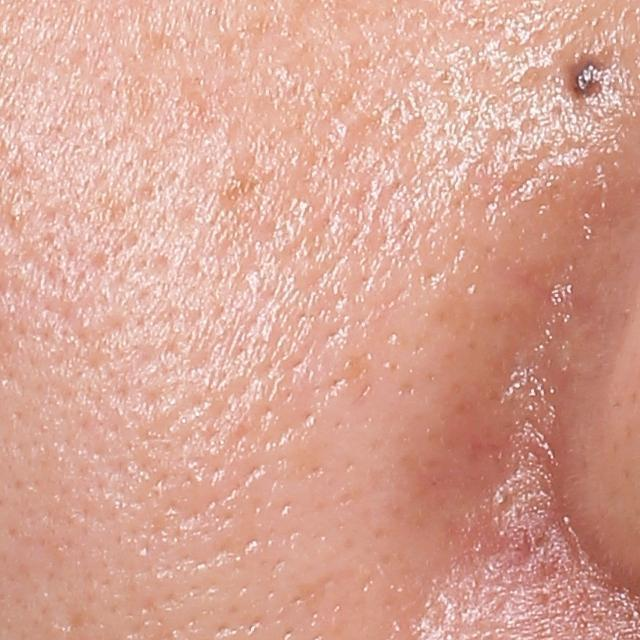nevus: (569, 56, 607, 100)
